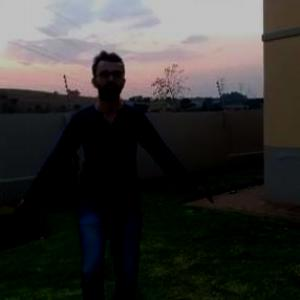land: (16, 55, 196, 290)
